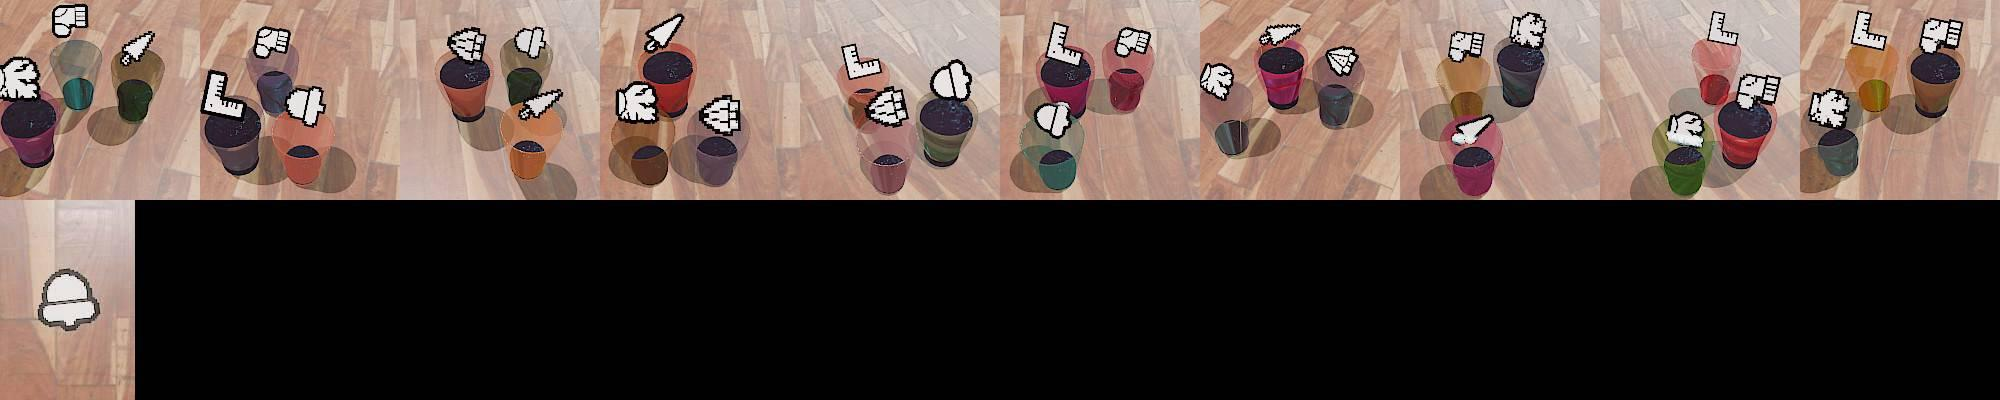icon: (34, 269, 99, 331), (202, 68, 246, 121), (1042, 19, 1087, 69), (0, 56, 41, 104), (615, 80, 659, 124), (930, 59, 973, 102), (284, 84, 327, 127), (866, 85, 908, 127), (1736, 73, 1782, 111), (1918, 18, 1964, 56), (699, 94, 741, 135), (839, 42, 883, 82), (1851, 9, 1889, 52), (518, 87, 565, 121), (644, 13, 685, 52), (1034, 99, 1075, 139), (1807, 88, 1848, 127), (1665, 110, 1707, 146), (446, 25, 486, 64), (1450, 112, 1495, 145), (1510, 11, 1547, 50), (251, 25, 292, 59), (51, 4, 88, 38), (1114, 25, 1152, 59), (1448, 29, 1486, 62), (1200, 62, 1233, 101), (514, 24, 548, 60), (119, 31, 154, 65), (1324, 45, 1361, 76), (1705, 9, 1737, 46), (1261, 22, 1301, 48)
